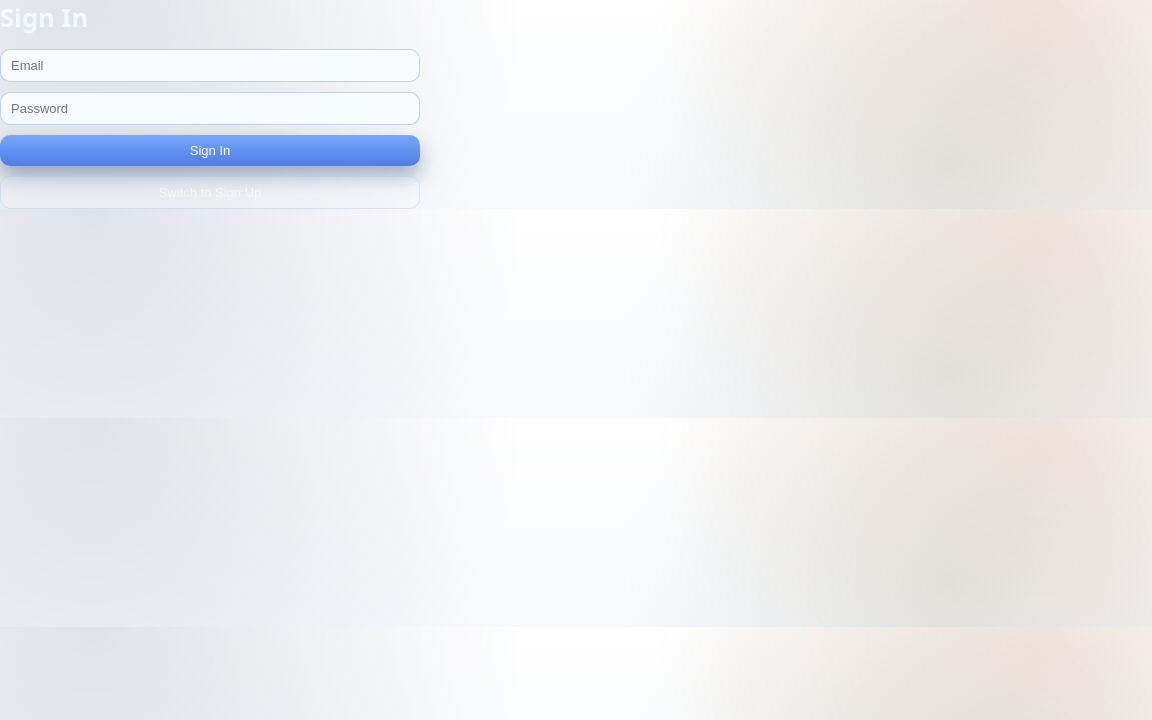
it: AuthPanel – login mode › shows error message on failed login
This screenshot has width=1152, height=720.
Type "bad@test.com" into the field with placeholder "Email" at [210, 66], box [0,49,420,82]
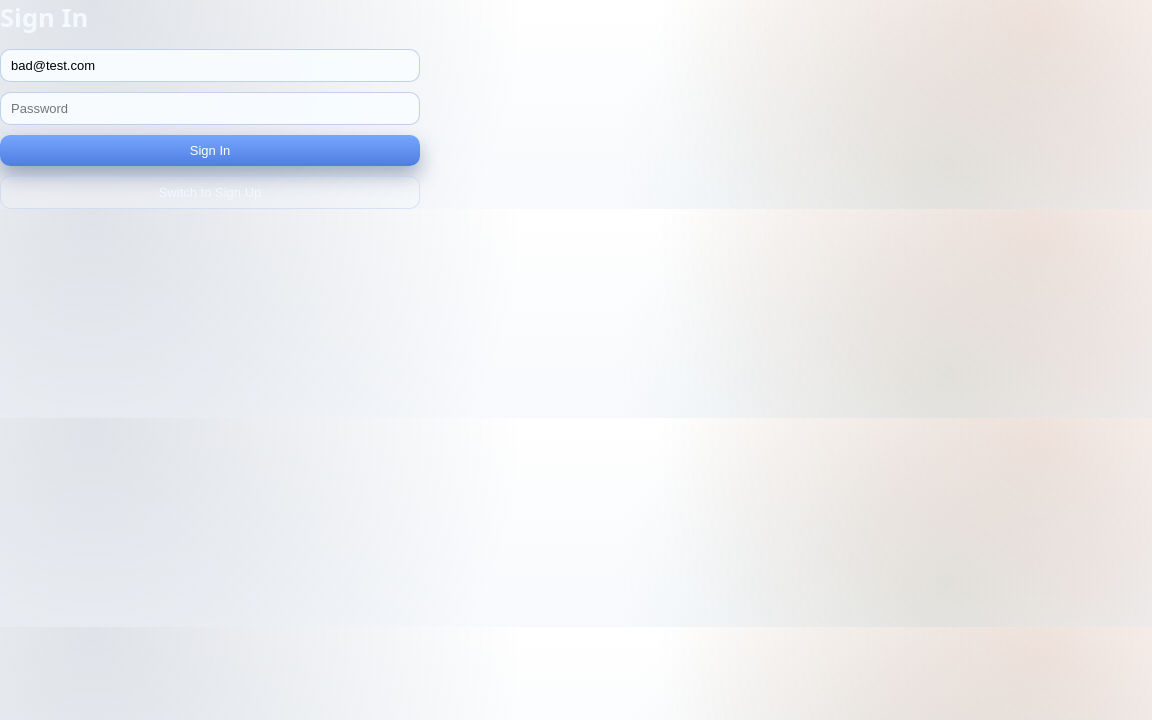
Type "wrongpass" into the password field with placeholder "Password" at [210, 108], box [0,92,420,125]
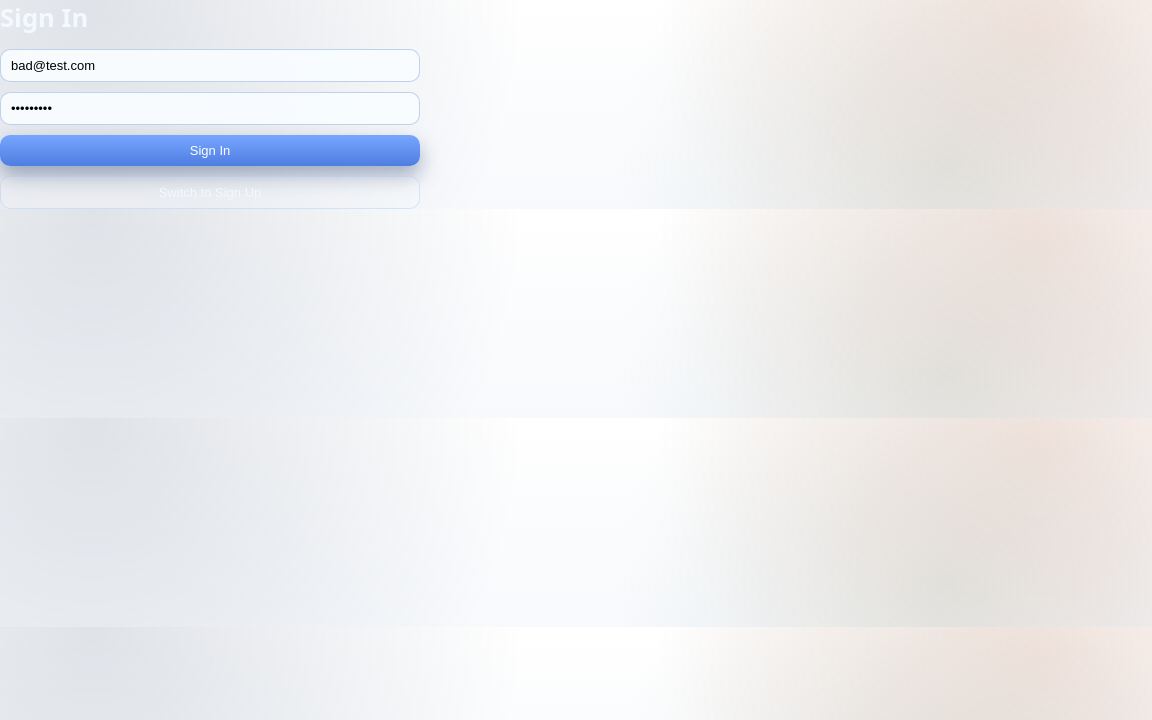
Click the button "Sign In" at [210, 150], box [0,135,420,166]
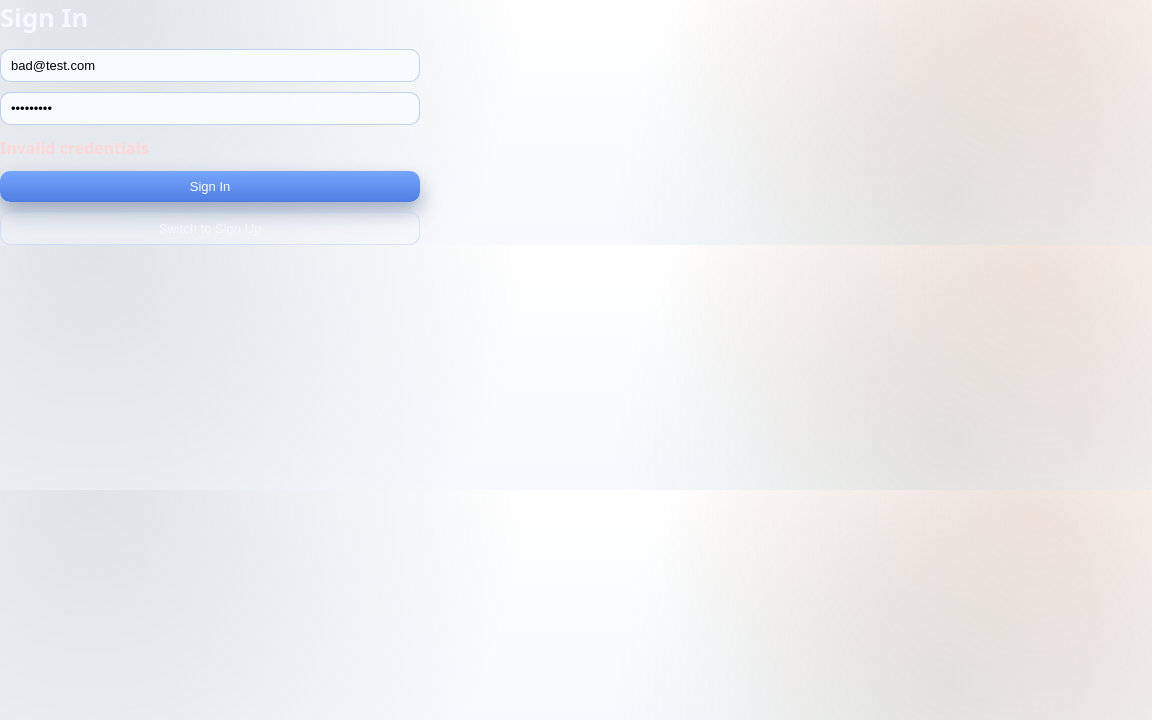
Result: the text "Invalid credentials" is shown at [0,137,149,159]
